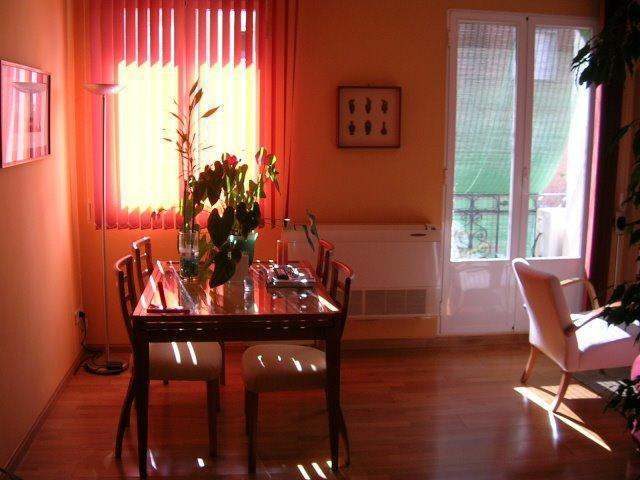Puerta: (455, 14, 586, 329)
